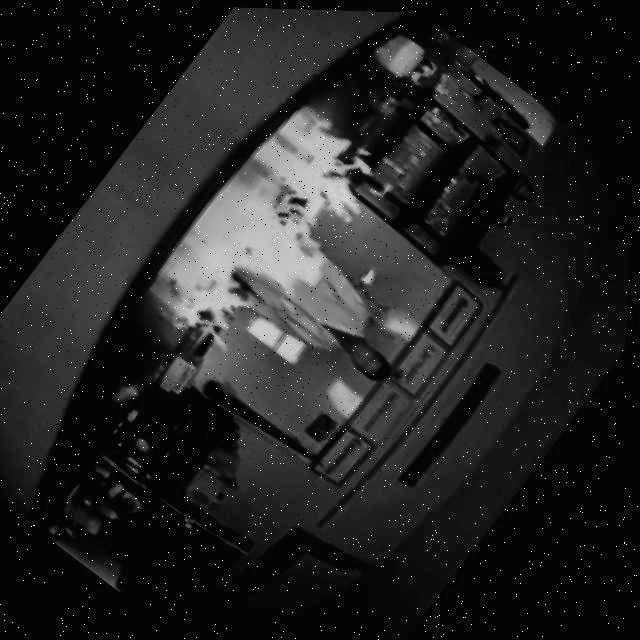Fire: (161, 102, 415, 386)
